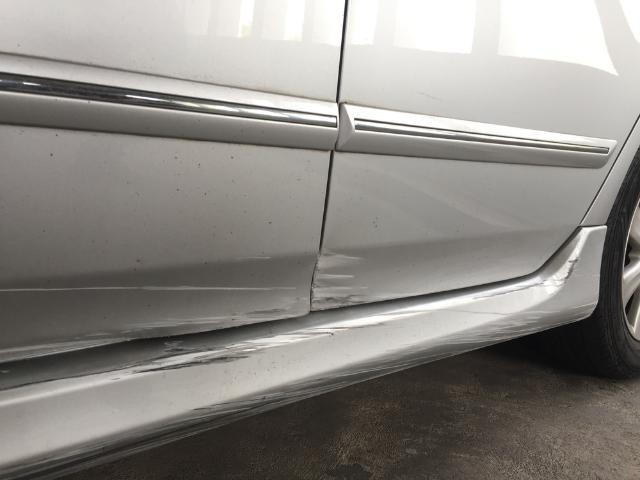rub: (0, 307, 592, 480), (114, 276, 548, 378), (0, 284, 303, 363), (308, 248, 375, 311)
